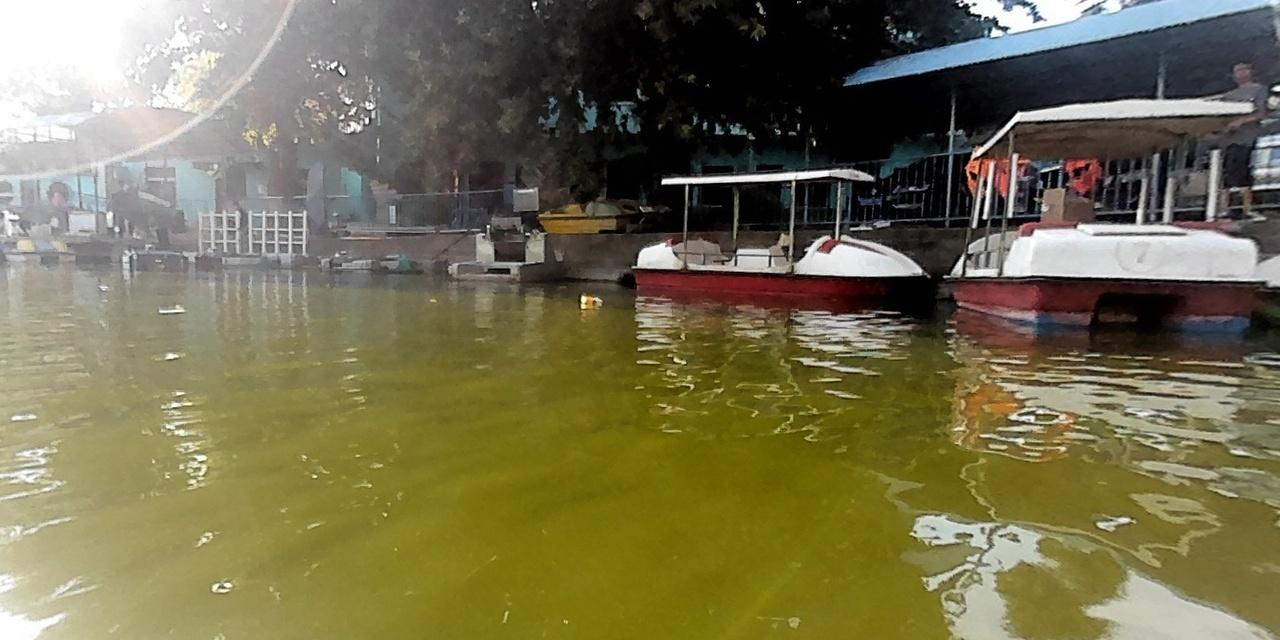bottle: (580, 294, 601, 308)
